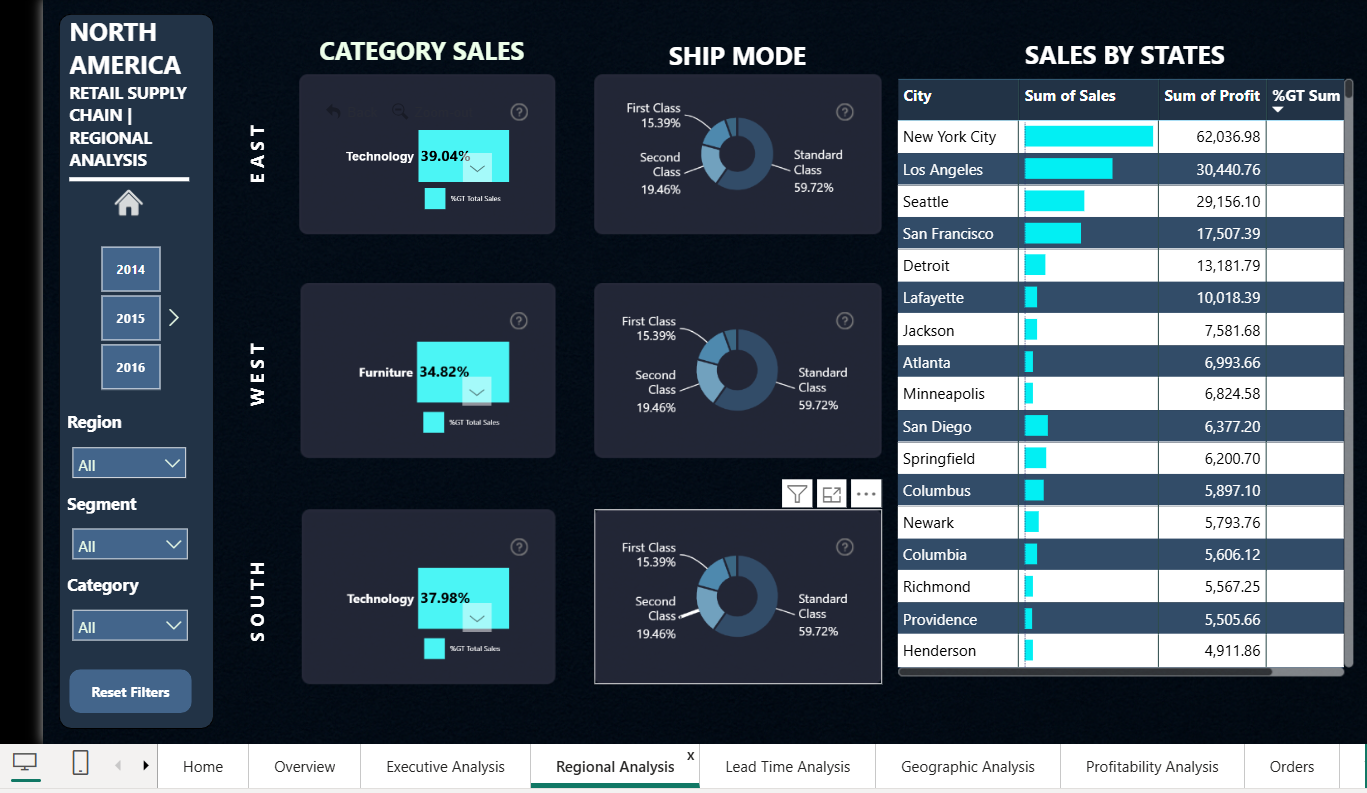

This screenshot's page, from the dashboard's own definition file:
{"tool":"powerbi","page":{"name":"Regional Analysis","canvas":[1280,720],"ordinal":3},"visuals":[{"type":"image","box":[54.3,167.7,59.1,60.3],"z":0},{"type":"shape","box":[0,0,179.8,720.2],"z":1000},{"type":"shape","box":[25.3,121.9,115.8,106.2],"z":2000},{"type":"textbox","box":[25.3,15.7,141.2,153.2],"z":3000},{"type":"image","box":[53.1,167.7,59.1,60.3],"z":4000},{"type":"slicer","fields":{"Values":["Calendar_Table.Date.Variation.Date Hierarchy.Year"]},"box":[25.3,228,117,161.7],"z":5000},{"type":"slicer","title":"Region","fields":{"Values":["Retails_Order.Region"]},"box":[13.3,387.3,139.9,85.7],"z":6000},{"type":"slicer","title":"Segment","fields":{"Values":["DIM_Customer.Segment"]},"box":[13.3,465.7,141.2,85.7],"z":7000},{"type":"slicer","title":"Category","fields":{"Values":["DIM_Product.Category"]},"box":[13.3,544.1,141.2,85.7],"z":8000},{"type":"actionButton","box":[25.3,647.9,118.2,42.2],"z":9000},{"type":"ZoomChartsDrillDownComboBarProE77E4ED357DC402ABA005987437CF8","fields":{"Category":["Retails_Order.Category"],"Values1":["Divide(Table.Total Sales, ScopedEval(Table.Total Sales, []))"]},"box":[247.3,73.6,247.3,154.4],"z":10000},{"type":"ZoomChartsDrillDownComboBarProE77E4ED357DC402ABA005987437CF8","fields":{"Category":["Retails_Order.Category"],"Values1":["Divide(Table.Total Sales, ScopedEval(Table.Total Sales, []))"]},"box":[1098.2,361.7,9.8,9.8],"z":11000},{"type":"ZoomChartsDrillDownComboBarProE77E4ED357DC402ABA005987437CF8","fields":{"Category":["Retails_Order.Category"],"Values1":["Divide(Table.Total Sales, ScopedEval(Table.Total Sales, []))"]},"box":[248.5,275.1,246.1,168.9],"z":12000},{"type":"ZoomChartsPieChartPaidE77E4ED357DC402ABA005987437CF500","fields":{"Category":["Fact_Retails_.Ship Mode"],"Values":["delivery pie chart.Count of rows by shipping mode"]},"box":[532,73.6,277.5,154.4],"z":13000},{"type":"ZoomChartsPieChartPaidE77E4ED357DC402ABA005987437CF500","fields":{"Category":["Fact_Retails_.Ship Mode"],"Values":["delivery pie chart.Count of rows by shipping mode"]},"box":[532,275.1,277.5,168.9],"z":14000},{"type":"ZoomChartsDrillDownComboBarProE77E4ED357DC402ABA005987437CF8","fields":{"Category":["Retails_Order.Category"],"Values1":["Divide(Table.Total Sales, ScopedEval(Table.Total Sales, []))"]},"box":[249.7,493.4,244.9,168.9],"z":15000},{"type":"ZoomChartsPieChartPaidE77E4ED357DC402ABA005987437CF500","fields":{"Category":["Fact_Retails_.Ship Mode"],"Values":["delivery pie chart.Count of rows by shipping mode"]},"box":[532,493.4,277.5,168.9],"z":16000},{"type":"tableEx","fields":{"Values":["Retails_Order.City","Sum(Retails_Order.Sales)","Sum(Retails_Order.Profit)","Divide(Sum(Retails_Order.Profit), ScopedEval(Sum(Retails_Order.Profit), [Role.Columns]))"]},"box":[809.5,62.7,470.5,606.8],"z":17000},{"type":"textbox","box":[266.6,33.8,213.5,39.8],"z":18000},{"type":"shape","box":[179.8,62.7,48.3,174.9],"z":19000},{"type":"shape","box":[179.8,275.1,48.3,176.1],"z":20000},{"type":"shape","box":[179.8,494.6,48.3,174.9],"z":21000},{"type":"shape","box":[585.1,24.1,170.1,60.3],"z":22000},{"type":"shape","box":[894,22.9,300.4,62.7],"z":23000}]}

Visuals, with their boxes on the page's 1280x720 design canvas (x1, y1, x2, y2). These are canvas units, not pixel positions in the 1367x793 screenshot, which may show the page scaled, cropped or inside an application window:
image: [x1=54, y1=168, x2=113, y2=228]
shape: [x1=0, y1=0, x2=180, y2=720]
shape: [x1=25, y1=122, x2=141, y2=228]
textbox: [x1=25, y1=16, x2=166, y2=169]
image: [x1=53, y1=168, x2=112, y2=228]
slicer - Calendar_Table.Date.Variation.Date Hierarchy.Year: [x1=25, y1=228, x2=142, y2=390]
"Region" slicer: [x1=13, y1=387, x2=153, y2=473]
"Segment" slicer: [x1=13, y1=466, x2=154, y2=551]
"Category" slicer: [x1=13, y1=544, x2=154, y2=630]
actionButton: [x1=25, y1=648, x2=144, y2=690]
ZoomChartsDrillDownComboBarProE77E4ED357DC402ABA005987437CF8 - Retails_Order.Category x Divide(Table.Total Sales, ScopedEval(Table.Total Sales, [])): [x1=247, y1=74, x2=495, y2=228]
ZoomChartsDrillDownComboBarProE77E4ED357DC402ABA005987437CF8 - Retails_Order.Category x Divide(Table.Total Sales, ScopedEval(Table.Total Sales, [])): [x1=1098, y1=362, x2=1108, y2=372]
ZoomChartsDrillDownComboBarProE77E4ED357DC402ABA005987437CF8 - Retails_Order.Category x Divide(Table.Total Sales, ScopedEval(Table.Total Sales, [])): [x1=248, y1=275, x2=495, y2=444]
ZoomChartsPieChartPaidE77E4ED357DC402ABA005987437CF500 - Fact_Retails_.Ship Mode x delivery pie chart.Count of rows by shipping mode: [x1=532, y1=74, x2=810, y2=228]
ZoomChartsPieChartPaidE77E4ED357DC402ABA005987437CF500 - Fact_Retails_.Ship Mode x delivery pie chart.Count of rows by shipping mode: [x1=532, y1=275, x2=810, y2=444]
ZoomChartsDrillDownComboBarProE77E4ED357DC402ABA005987437CF8 - Retails_Order.Category x Divide(Table.Total Sales, ScopedEval(Table.Total Sales, [])): [x1=250, y1=493, x2=495, y2=662]
ZoomChartsPieChartPaidE77E4ED357DC402ABA005987437CF500 - Fact_Retails_.Ship Mode x delivery pie chart.Count of rows by shipping mode: [x1=532, y1=493, x2=810, y2=662]
tableEx - Retails_Order.City x Sum(Retails_Order.Sales): [x1=810, y1=63, x2=1280, y2=670]
textbox: [x1=267, y1=34, x2=480, y2=74]
shape: [x1=180, y1=63, x2=228, y2=238]
shape: [x1=180, y1=275, x2=228, y2=451]
shape: [x1=180, y1=495, x2=228, y2=670]
shape: [x1=585, y1=24, x2=755, y2=84]
shape: [x1=894, y1=23, x2=1194, y2=86]
